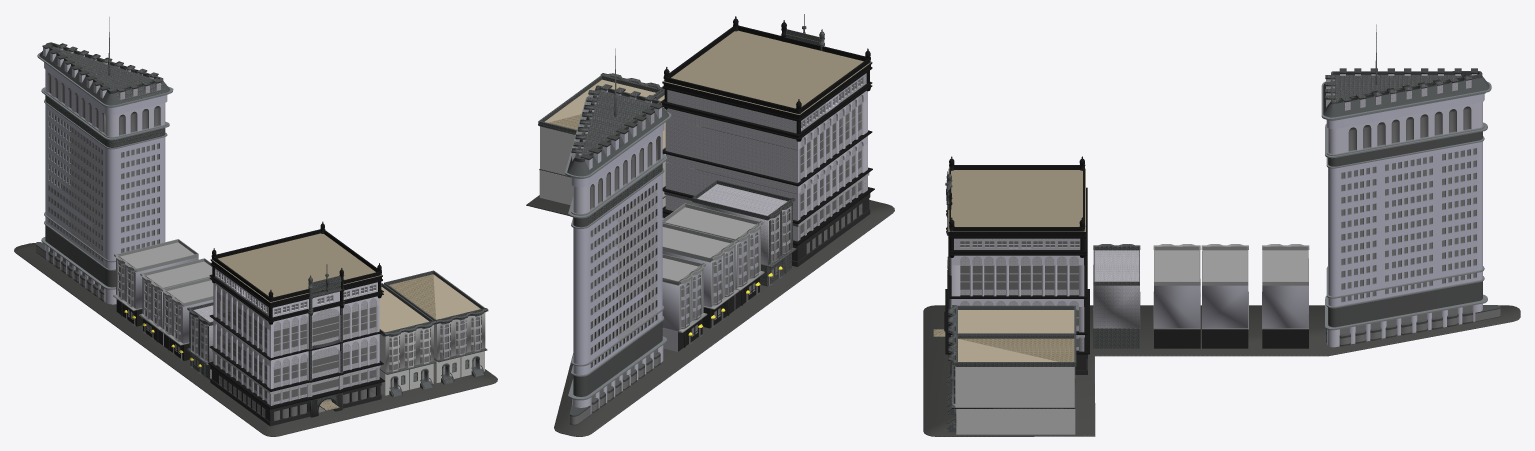
3 renders of one model, left to right at view 1: azimuth 30°, elevation 25°; view 2: azimuth 150°, elevation 25°; view 3: azimuth 270°, elevation 25°, orthographic. The views are drawn at different scales.
Parts seen in each view (by area): view 1: Layer:FL_MAIN, Layer:R_MAIN, Layer:SIDEWALK, Layer:R_TRIM, Layer:R_WINDOWS, Layer:R_ROOF, Layer:FL_TRIM, Layer:FL_WINDOWS, Layer:ROW_MAIN, Layer:OLF_TRIM, Layer:ROW_ROOF, Layer:FL_GRNDFLOOR (+11 smaller); view 2: Layer:R_MAIN, Layer:FL_MAIN, Layer:R_ROOF, Layer:R_TRIM, Layer:SIDEWALK, Layer:FL_TRIM, Layer:OLF_TRIM, Layer:OLF_1, Layer:OLF_ROOF, Layer:FL_WINDOWS, Layer:FL_ROOF, Layer:FL_GRNDFLOOR (+10 smaller); view 3: Layer:FL_MAIN, Layer:SIDEWALK, Layer:FL_WINDOWS, Layer:OLF_1, Layer:ROW_MAIN, Layer:R_ROOF, Layer:R_MAIN, Layer:FL_TRIM, Layer:OLF_ROOF, Layer:R_TRIM, Layer:ROW_ROOF, Layer:FL_2NDFLOOR (+7 smaller).
Boxes of the visible parts, <box> form: Layer:FL_MAIN: <box>44,62,167,269</box>; Layer:R_MAIN: <box>212,268,380,405</box>; Layer:SIDEWALK: <box>14,243,497,436</box>; Layer:R_TRIM: <box>208,221,384,411</box>; Layer:R_WINDOWS: <box>216,271,376,420</box>; Layer:R_ROOF: <box>211,233,382,410</box>; Layer:FL_TRIM: <box>37,52,173,289</box>; Layer:FL_WINDOWS: <box>35,73,160,300</box>; Layer:ROW_MAIN: <box>379,312,485,395</box>; Layer:OLF_TRIM: <box>113,239,213,372</box>; Layer:ROW_ROOF: <box>379,274,480,332</box>; Layer:FL_GRNDFLOOR: <box>43,46,165,304</box>; Layer:R_MAIN: <box>665,73,869,241</box>; Layer:FL_MAIN: <box>571,123,664,374</box>; Layer:R_ROOF: <box>663,30,871,114</box>; Layer:R_TRIM: <box>661,14,874,245</box>; Layer:SIDEWALK: <box>526,195,894,436</box>; Layer:FL_TRIM: <box>565,96,671,400</box>; Layer:OLF_TRIM: <box>662,180,796,341</box>; Layer:OLF_1: <box>662,202,791,351</box>; Layer:OLF_ROOF: <box>662,184,787,280</box>; Layer:FL_WINDOWS: <box>569,136,660,424</box>; Layer:FL_ROOF: <box>567,90,668,415</box>; Layer:FL_GRNDFLOOR: <box>572,88,663,413</box>; Layer:FL_MAIN: <box>1326,94,1484,306</box>; Layer:SIDEWALK: <box>923,305,1520,436</box>; Layer:FL_WINDOWS: <box>1326,106,1500,344</box>; Layer:OLF_1: <box>1093,285,1308,328</box>; Layer:ROW_MAIN: <box>952,365,1075,434</box>; Layer:R_ROOF: <box>933,168,1085,336</box>; Layer:R_MAIN: <box>951,238,1084,351</box>; Layer:FL_TRIM: <box>1321,81,1491,330</box>; Layer:OLF_ROOF: <box>1094,250,1307,281</box>; Layer:R_TRIM: <box>933,156,1089,354</box>; Layer:ROW_ROOF: <box>958,310,1074,361</box>; Layer:FL_2NDFLOOR: <box>1328,131,1482,327</box>.
Bounding box in the file's own units: 177 × 197 × 341.
31 materials, 26 textured.
